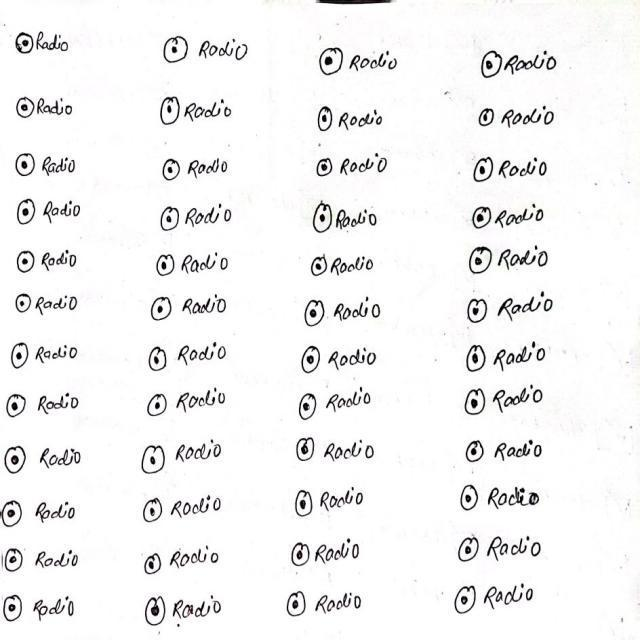radio: (483, 42, 576, 88), (469, 287, 561, 333), (303, 197, 391, 242), (143, 242, 252, 278), (317, 42, 405, 84), (157, 31, 253, 69), (474, 103, 571, 139), (468, 244, 559, 282), (152, 144, 241, 181), (304, 152, 401, 185), (305, 102, 401, 135), (152, 90, 240, 126), (138, 441, 231, 475), (138, 489, 231, 522), (139, 295, 243, 324), (304, 296, 386, 332), (302, 341, 386, 376), (143, 343, 239, 373), (467, 156, 569, 184), (155, 198, 241, 230), (291, 432, 378, 463), (290, 391, 370, 424), (142, 549, 233, 578), (149, 386, 235, 416), (471, 201, 551, 233), (293, 485, 372, 517), (287, 537, 372, 565), (305, 253, 383, 282), (142, 586, 170, 632), (447, 535, 484, 567), (450, 583, 482, 618), (1, 540, 31, 577), (453, 482, 484, 517), (465, 381, 491, 419), (5, 385, 31, 422), (8, 339, 35, 374), (1, 498, 29, 530), (13, 244, 40, 277), (465, 344, 491, 375), (14, 29, 38, 62), (288, 587, 312, 620), (18, 193, 40, 229), (5, 445, 30, 475), (2, 594, 27, 624), (16, 93, 36, 126), (13, 152, 37, 179), (461, 443, 489, 466), (13, 291, 34, 318)
